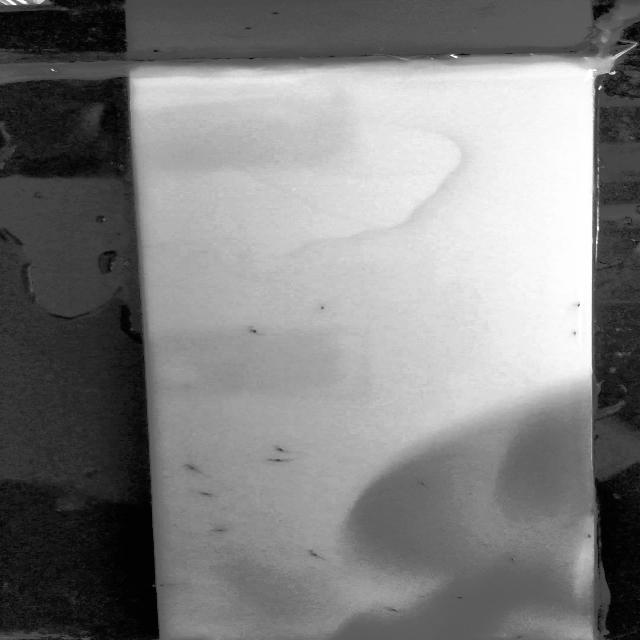shrimp: (296, 545, 334, 561), (441, 591, 481, 605), (238, 324, 268, 339), (268, 441, 298, 456), (405, 473, 433, 488), (502, 627, 534, 640), (210, 519, 234, 536), (377, 604, 414, 614), (180, 463, 208, 476), (157, 580, 179, 592), (273, 455, 293, 467), (504, 553, 522, 566), (195, 488, 217, 497)
